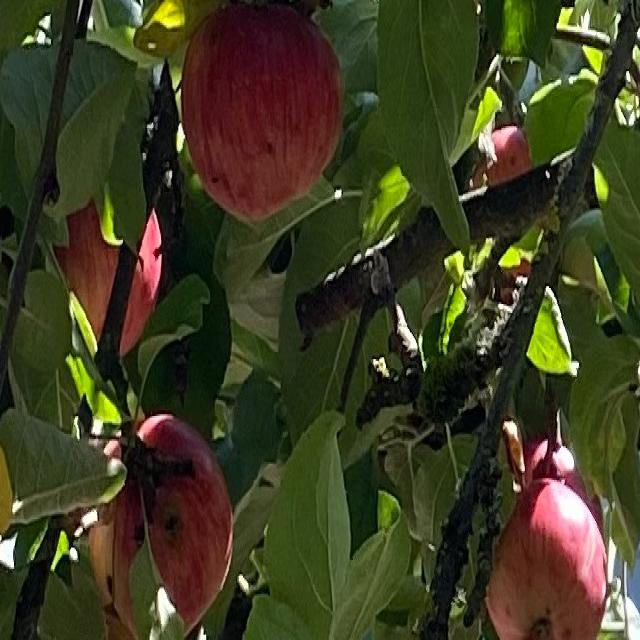Apples: (182, 9, 342, 219), (94, 418, 232, 628), (487, 487, 607, 638), (56, 195, 162, 361), (519, 436, 608, 528), (476, 122, 535, 186)
